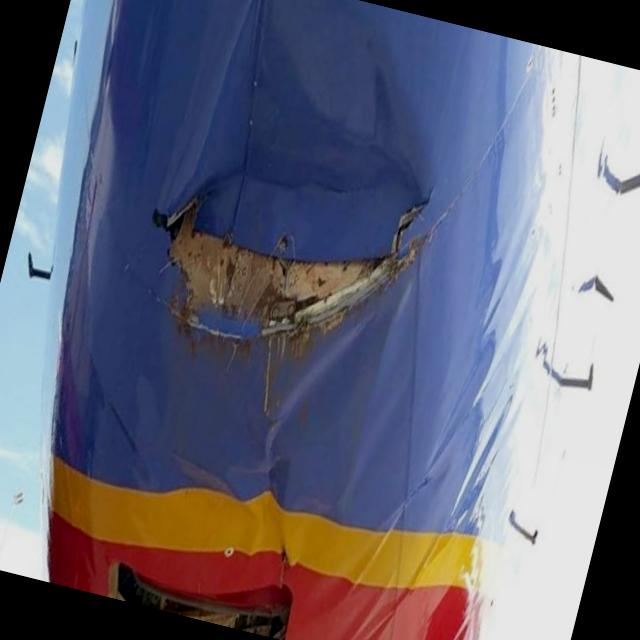crack: (117, 112, 450, 432)
